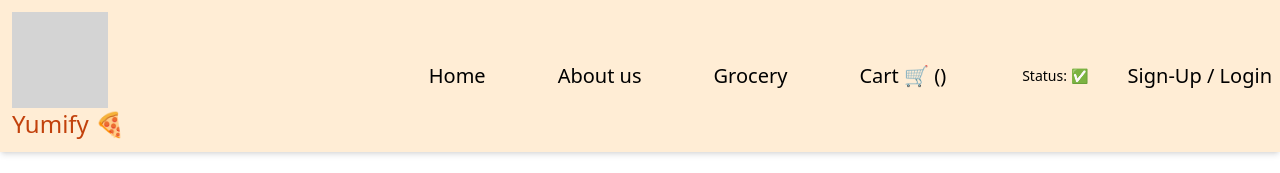
Test case: should change login button text when clicked
Click the button "Sign-Up / Login".
click(1200, 76)  # box [1128,26,1272,126]
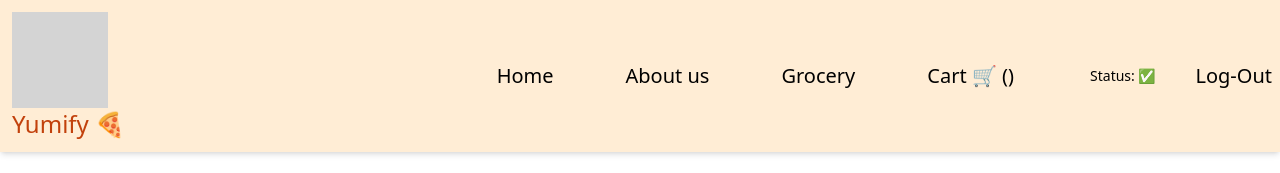
Expected: the button "Log-Out" is shown, [1196,26,1272,126]
